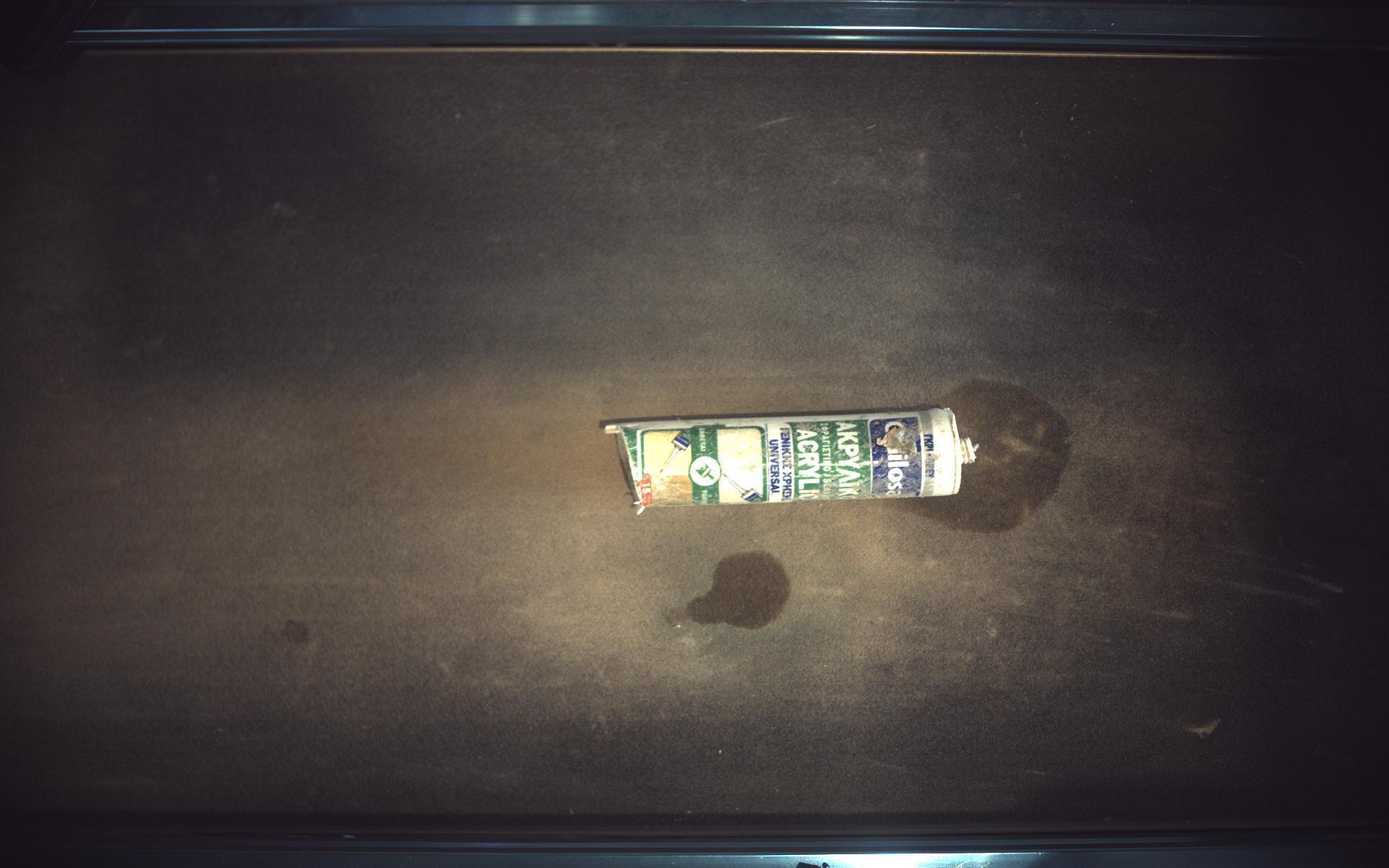plastic: (603, 407, 978, 514)
